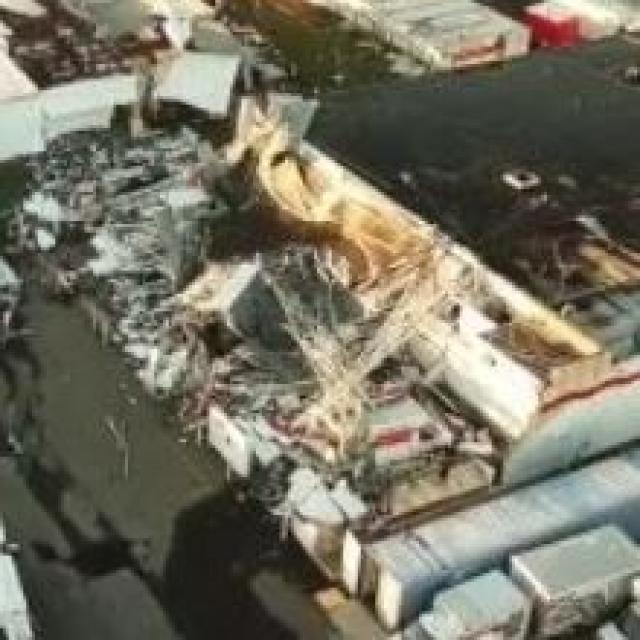collapsed_building: (46, 61, 594, 483)
